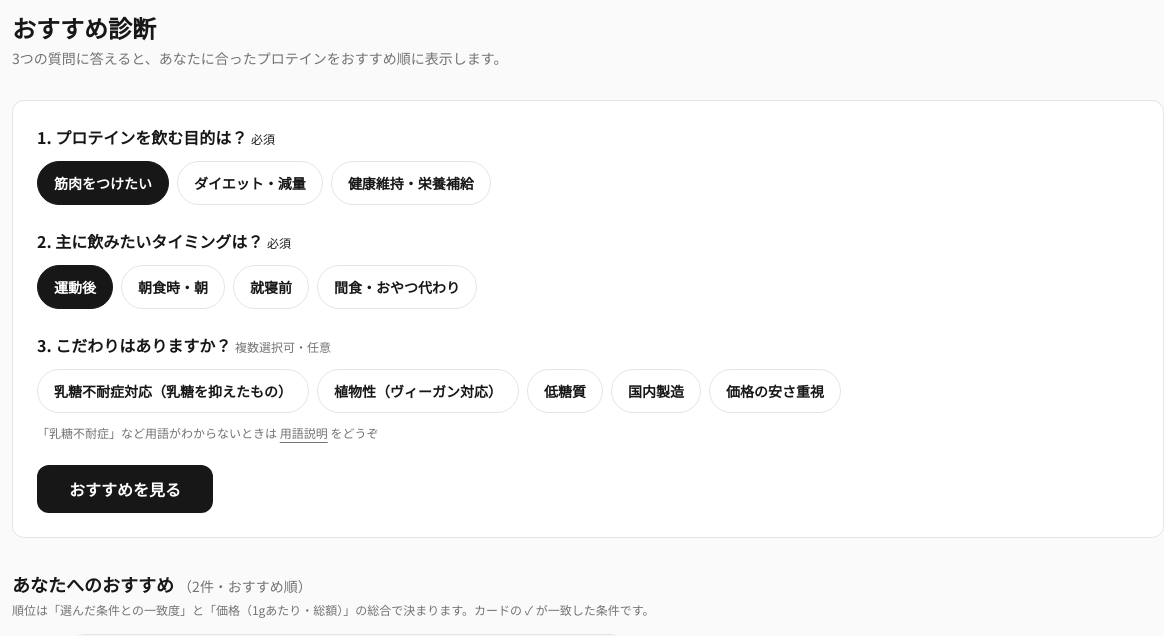
Test: RecommendView — 条件変更後の古い結果（RV-05・RV-13） › TC-U23 正常系: 条件を変えると警告と再実行ボタンが現れる
The width and height of the screenshot is (1164, 636).
Expected: the text "条件が変更されています" is not shown
こだわりを 1 つ足して条件をずらす
Click the button "低糖質": (565, 391) [527, 369, 603, 413]
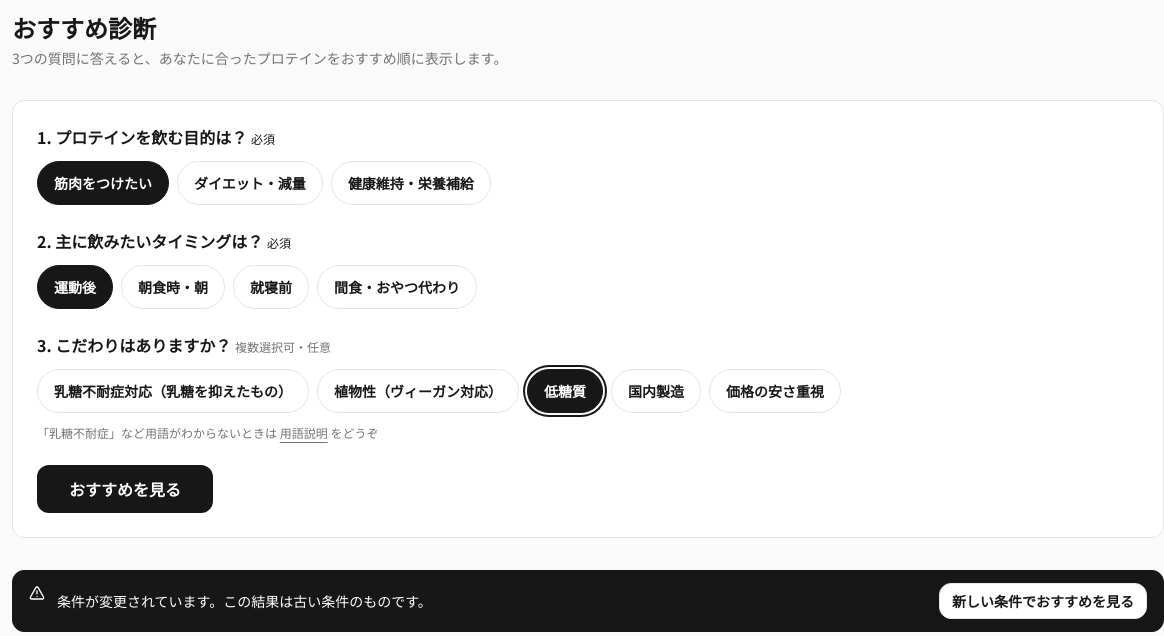
Now the text "条件が変更されています。この結果は古い条件のものです。" is shown, box [57, 590, 432, 612]
Now the button "新しい条件でおすすめを見る" is shown, box [939, 583, 1147, 619]
